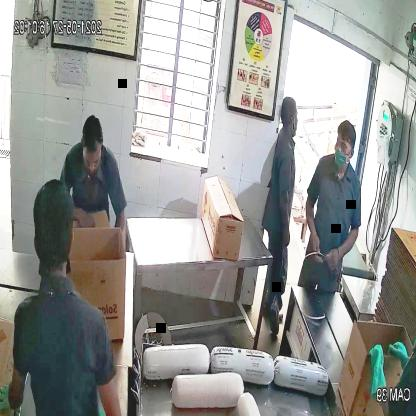no_goggles: (332, 136, 358, 156), (81, 152, 103, 168)
